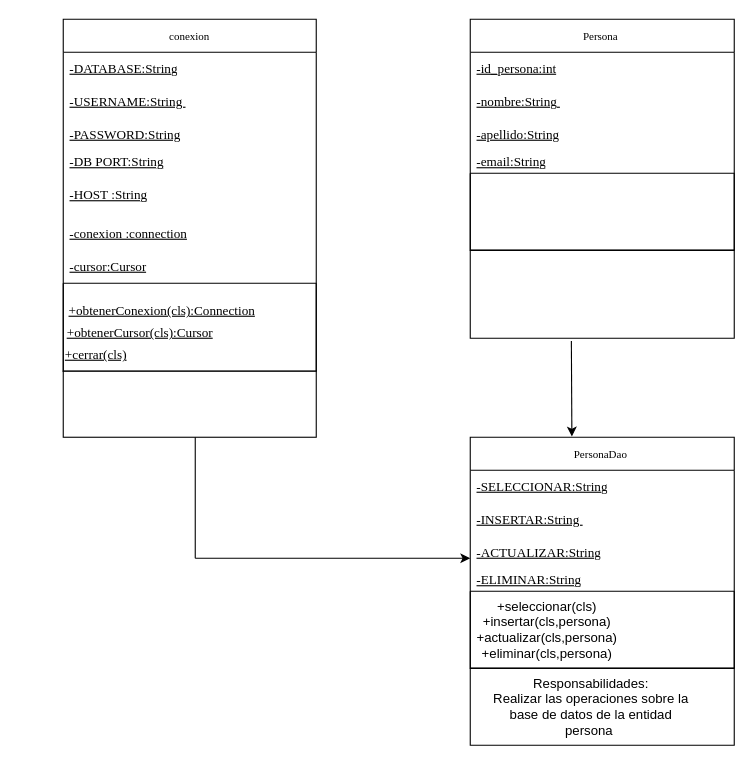
This 754x765 diagram has some shape labels left out. The centre of each missing label's shape, as x and y in pixels:
+_str_():String +metodo Get/Set de cada atributo: the point at 601,211
Responsabilidades: Administrar la conexión a la base de datos: the point at 189,403
Responsabilidades: Crear objetos de la entidad persona: the point at 601,293
